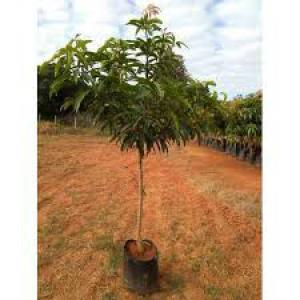Tree: (53, 12, 215, 287)
